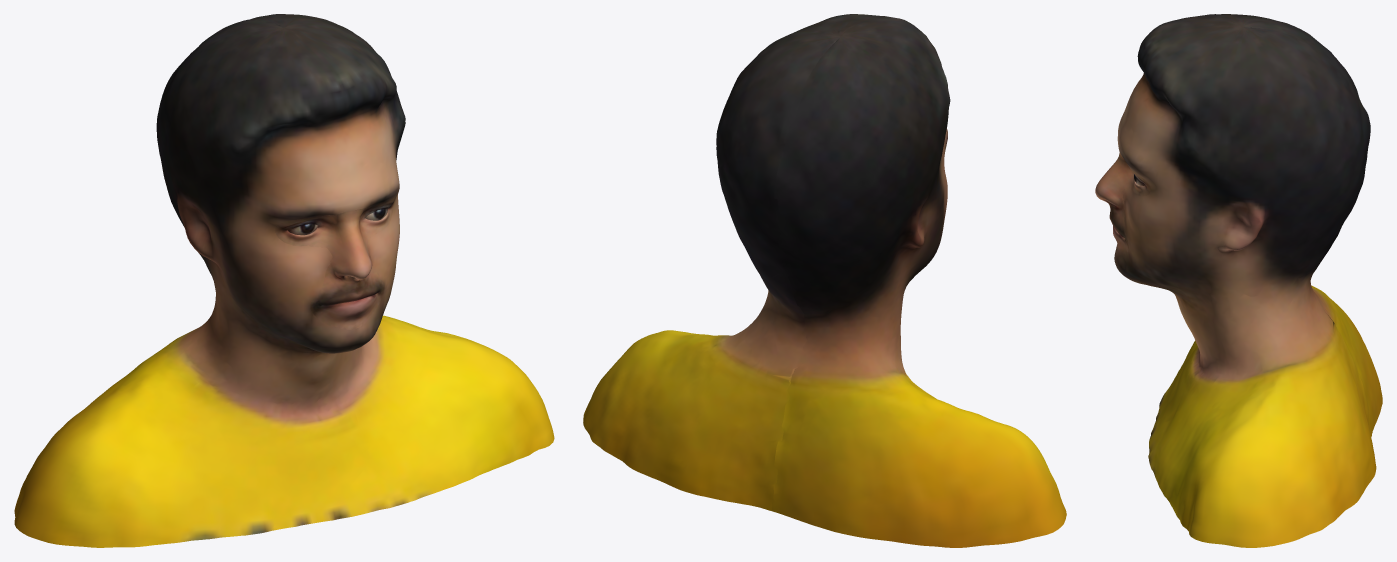
File: myModel.glb
3 views of the same model, side by side, from view 1: azimuth 30°, elevation 25°; view 2: azimuth 150°, elevation 25°; view 3: azimuth 270°, elevation 25° (orthographic). The views are drawn at different scales.
Parts seen in each view (by area): view 1: model; view 2: model; view 3: model.
Part boxes in pixels (x1,y1,x2,y2): model: [14, 14, 554, 547]; model: [583, 14, 1066, 547]; model: [1095, 14, 1382, 547].
Bounding box in the file's own units: 0.456 × 0.3894 × 0.2484.
Materials: 1 (1 with a texture image).
